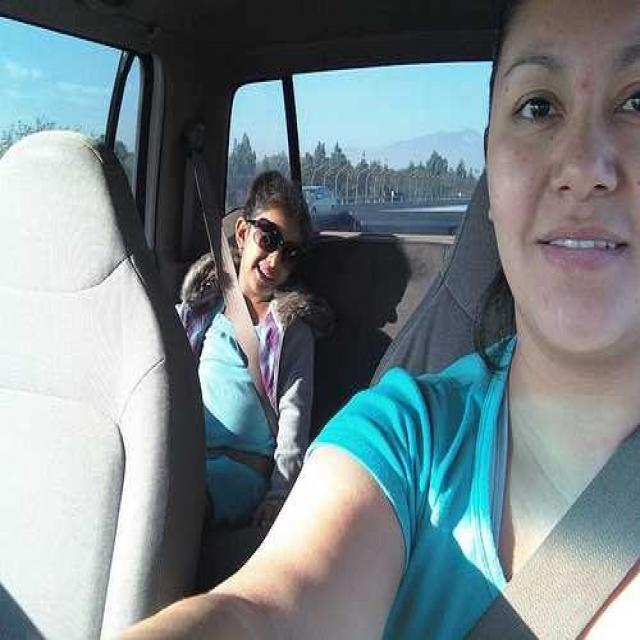seatbelt: (500, 432, 628, 614), (185, 142, 266, 426)
